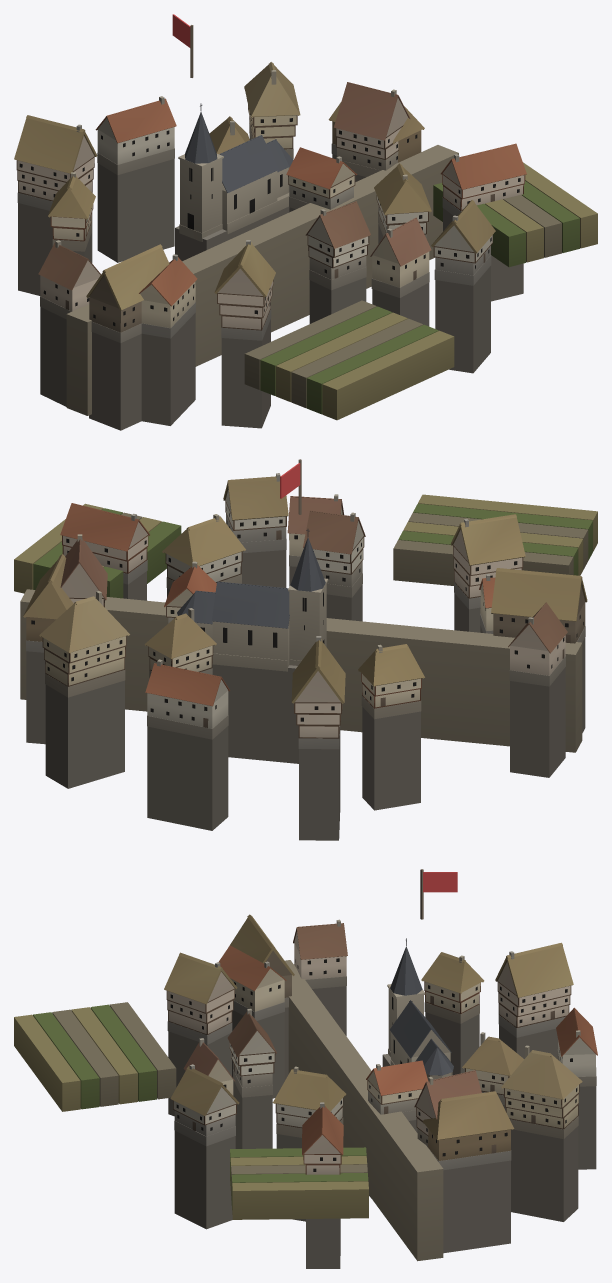
Rendered from village_a.glb.
3 renders of one model, top to bottom at view 1: azimuth 30°, elevation 25°; view 2: azimuth 150°, elevation 25°; view 3: azimuth 270°, elevation 25°, orthographic. The views are drawn at different scales.
Visible parts, largest first — view 1: village_a; view 2: village_a; view 3: village_a.
Boxes of the visible parts, x1,y1,x2,y2 form: village_a: (14,14,597,430); village_a: (14,459,597,840); village_a: (14,869,597,1268).
Size of the model in its own units: 2.02 by 1.11 by 2.14.
